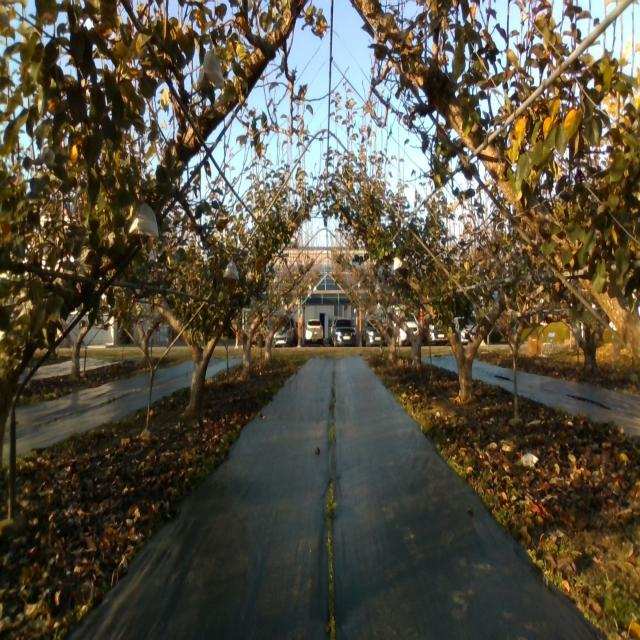pearbags: (128, 202, 159, 238), (198, 50, 224, 86), (222, 262, 238, 280)
